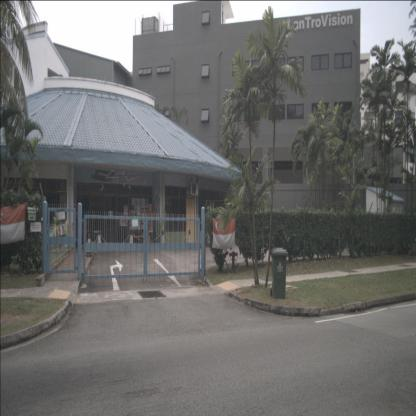movable_object-trafficcone: (85, 233, 92, 256), (96, 231, 102, 254), (128, 231, 134, 253), (160, 230, 166, 252), (187, 229, 192, 250)
